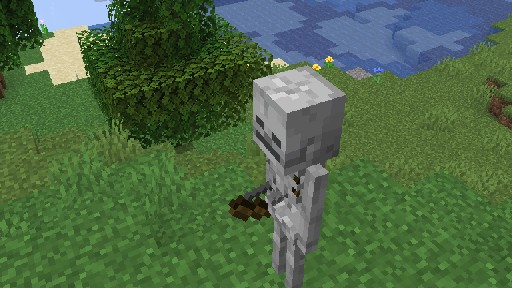skeleton: (227, 64, 346, 288)
